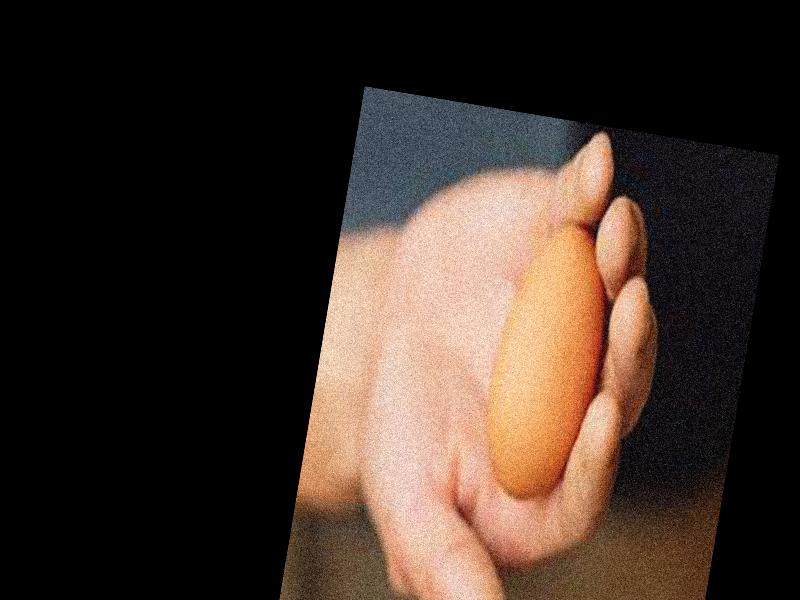Eggs: (474, 214, 618, 505)
